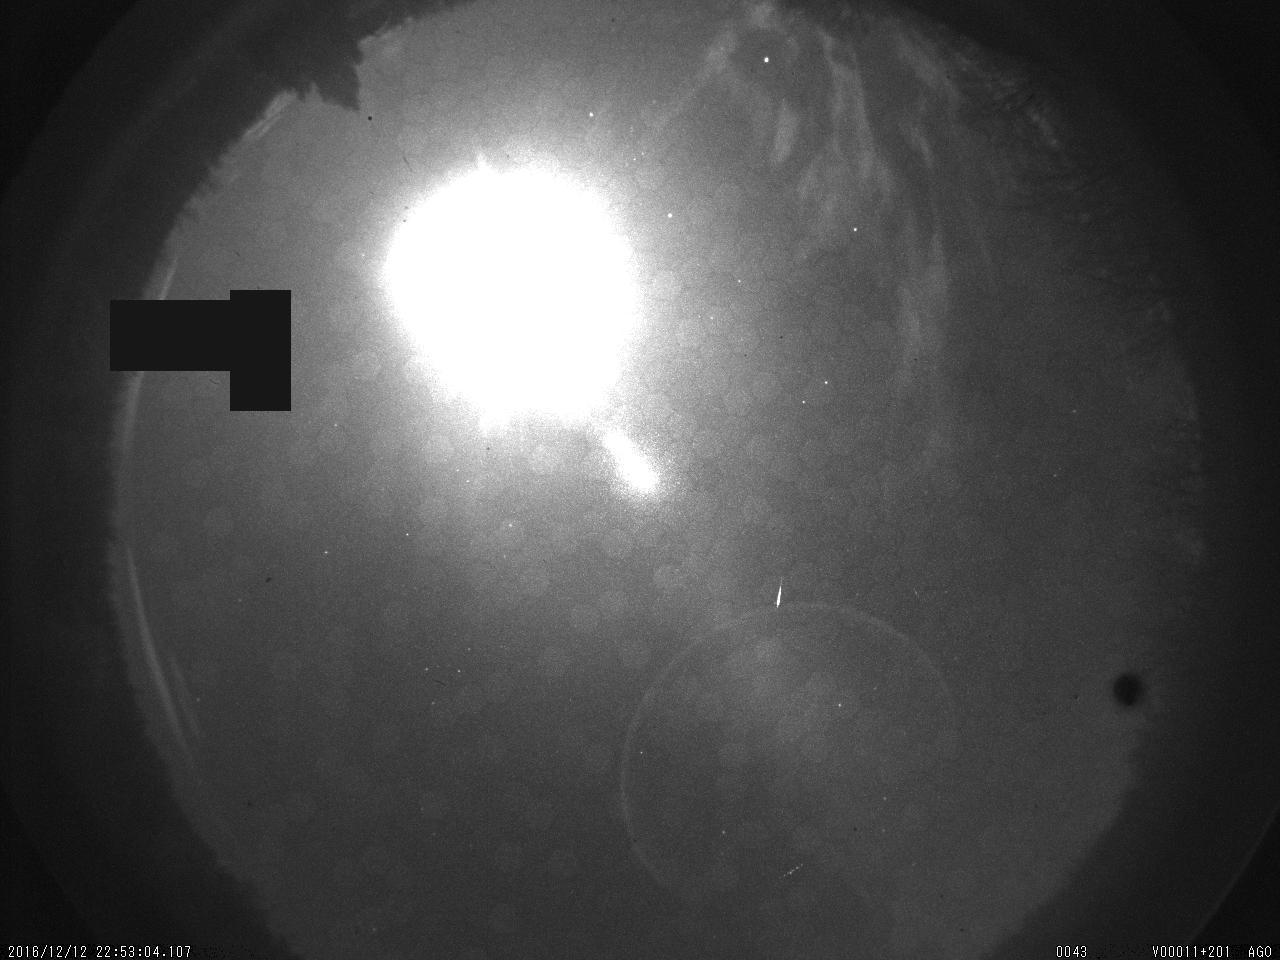meteor: (749, 558, 807, 626)
